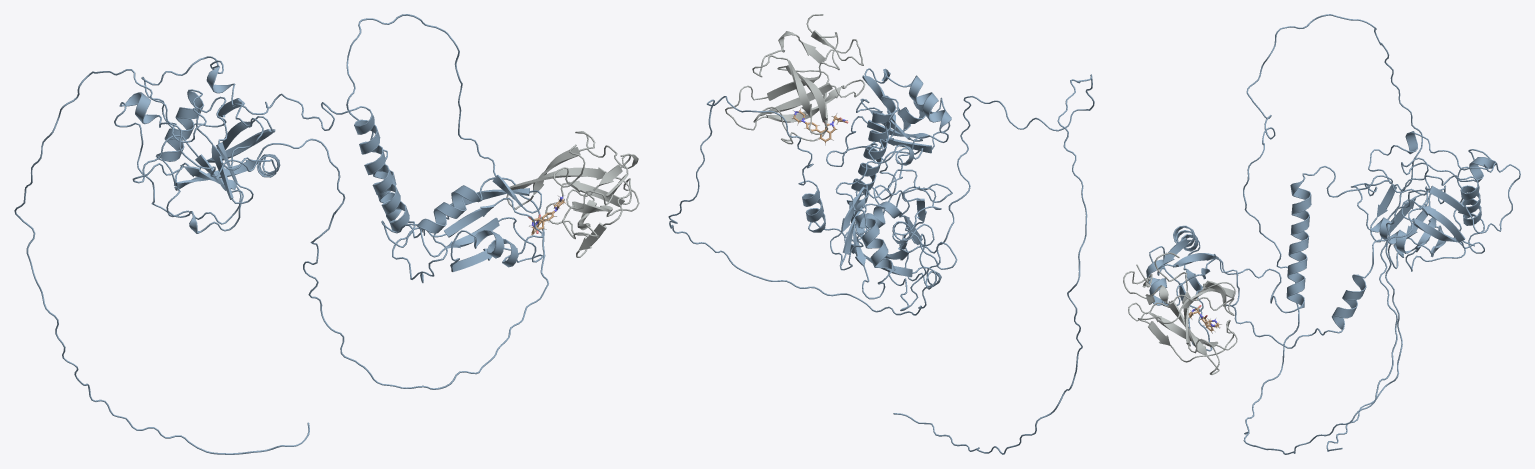
3 renders of one model, left to right at view 1: azimuth 30°, elevation 25°; view 2: azimuth 150°, elevation 25°; view 3: azimuth 270°, elevation 25°, orthographic. The views are drawn at different scales.
Parts seen in each view (by area): view 1: node-geom97, node-geom98; view 2: node-geom97, node-geom98; view 3: node-geom97, node-geom98.
Boxes of the visible parts, <box> form: node-geom97: <box>114,56,639,257</box>; node-geom98: <box>14,14,548,454</box>; node-geom97: <box>725,14,957,311</box>; node-geom98: <box>668,68,1094,454</box>; node-geom97: <box>1123,131,1520,374</box>; node-geom98: <box>1146,14,1427,454</box>.
Bounding box in the file's own units: 134 × 106 × 104.
